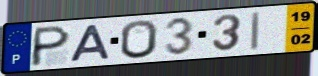3: (164, 16, 197, 58), (210, 13, 243, 53)
A: (67, 23, 113, 63)
I: (250, 10, 263, 52)
O: (119, 18, 159, 60)
P: (28, 24, 73, 68)
